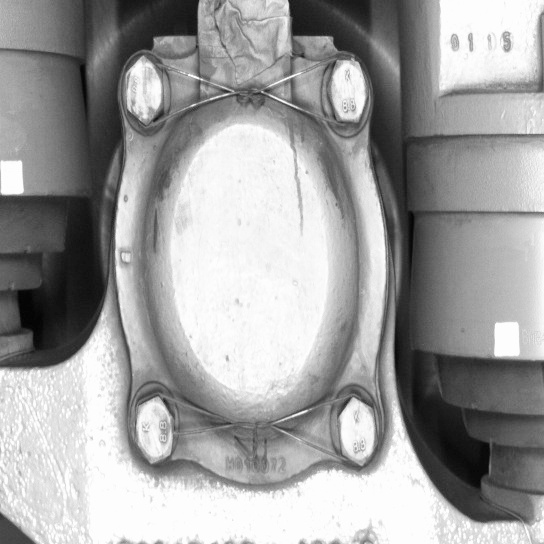IronWire: (116, 48, 373, 132), (129, 390, 382, 472)
Screw: (117, 49, 169, 132), (321, 51, 372, 130), (129, 391, 179, 470), (333, 390, 381, 472)
